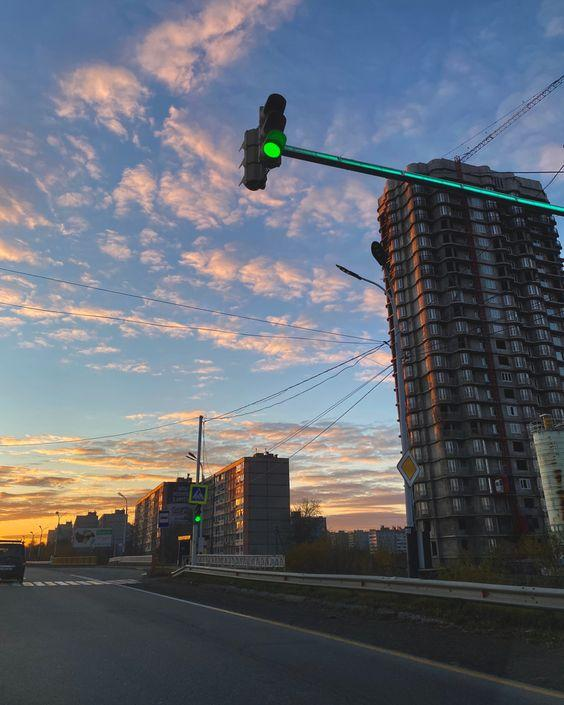Traffic light green: (248, 92, 307, 183)
